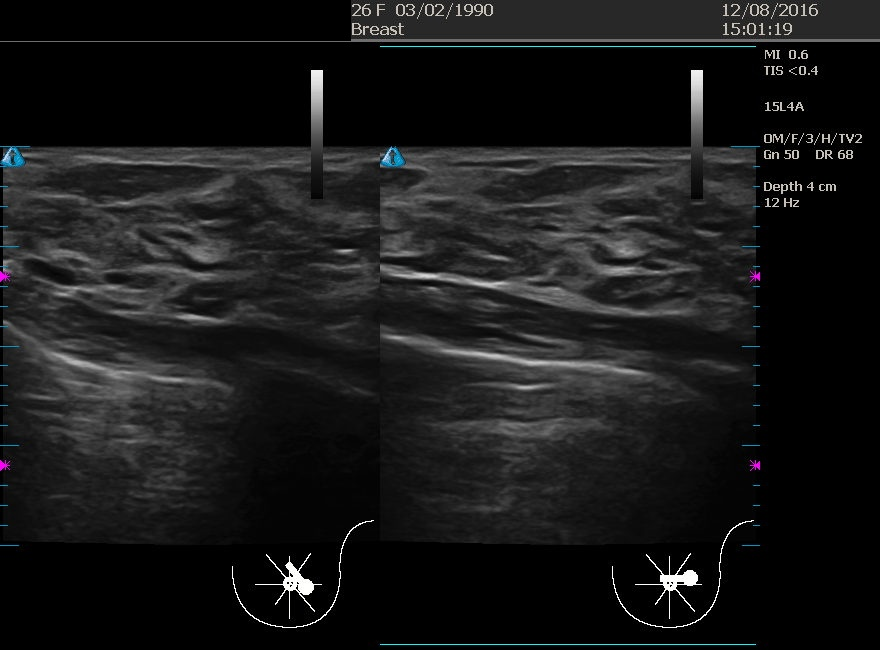BIRADS_2: (501, 223, 701, 424)
BIRADS_3: (124, 219, 325, 419)
